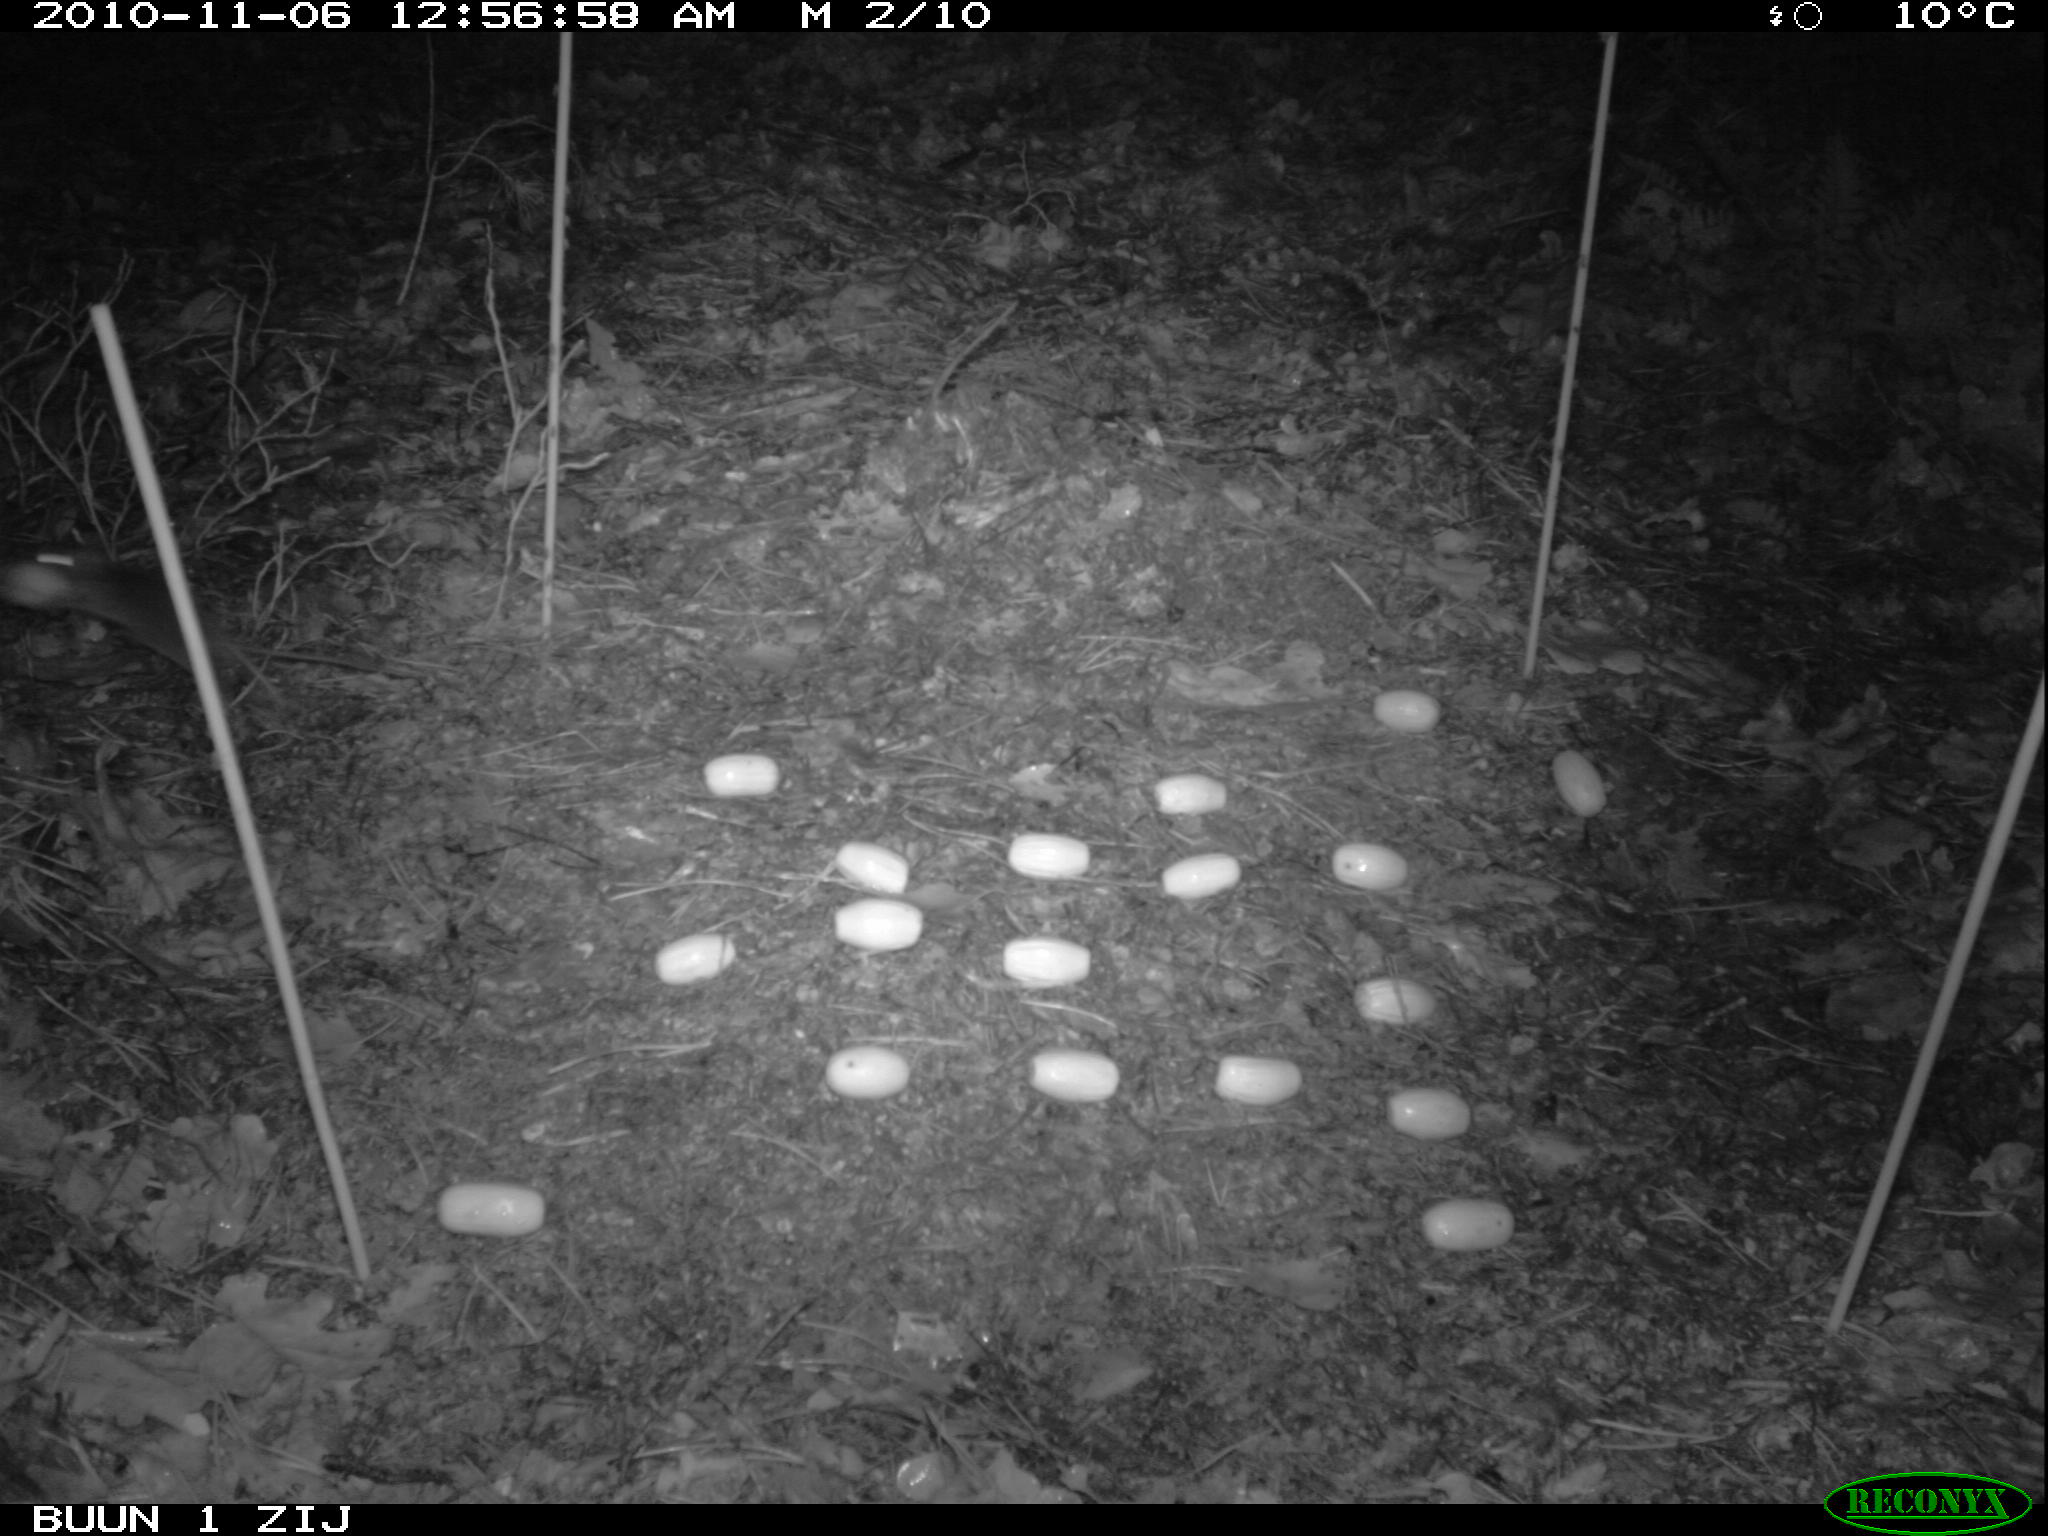Rodent: (21, 515, 297, 729)
